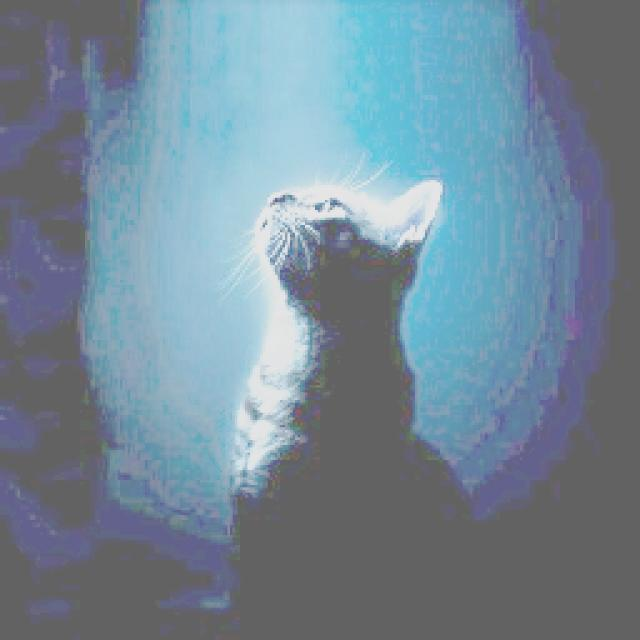cat: (202, 143, 461, 524)
